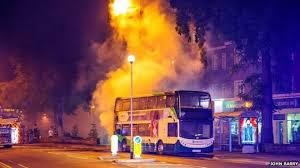fire: (108, 1, 180, 66)
